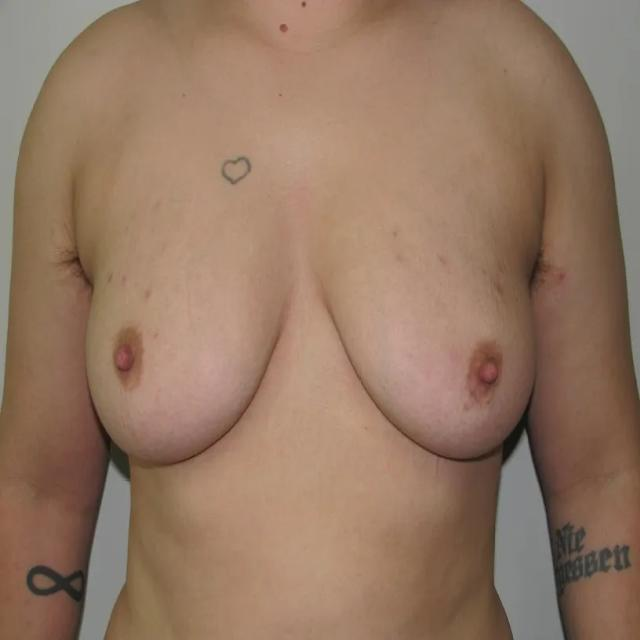Seno ileso: (309, 160, 545, 485), (77, 161, 304, 489)
